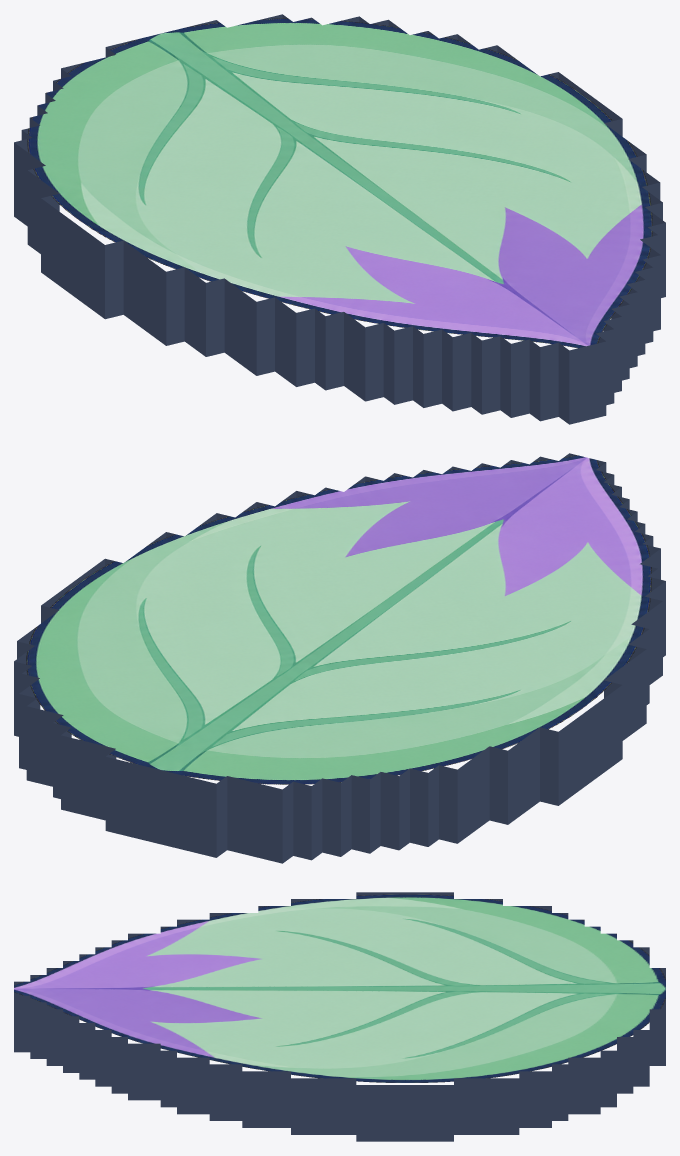
The model's file is boss_leaf.glb.
3 views of the same model, one above another, from view 1: azimuth 30°, elevation 25°; view 2: azimuth 150°, elevation 25°; view 3: azimuth 270°, elevation 25° (orthographic). The views are drawn at different scales.
Parts seen in each view (by area): view 1: boss_leaf; view 2: boss_leaf; view 3: boss_leaf.
Boxes of the visible parts, x1=… form: boss_leaf: x1=14, y1=14, x2=665, y2=424; boss_leaf: x1=14, y1=453, x2=665, y2=863; boss_leaf: x1=14, y1=892, x2=665, y2=1141.
Size of the model in its own units: 0.5833 by 0.08 by 0.8333.
Materials: 2 (1 with a texture image).
